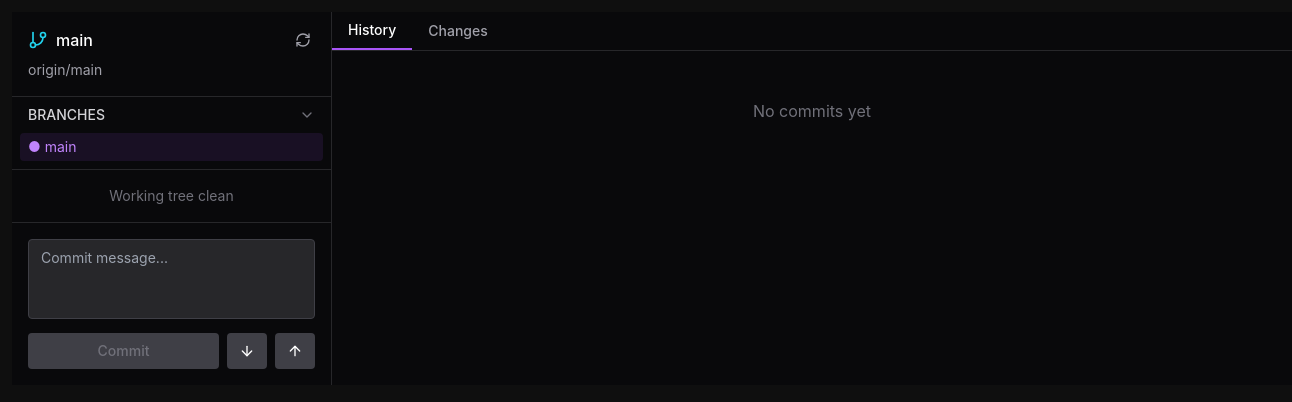
Scenario: GitPanel › Branch List › should toggle branch list visibility
The image size is (1292, 402).
Expected: the button "● main" is shown, [20,133,323,161]
Click the button "BRANCHES" at (66, 114), box [12,97,331,133]
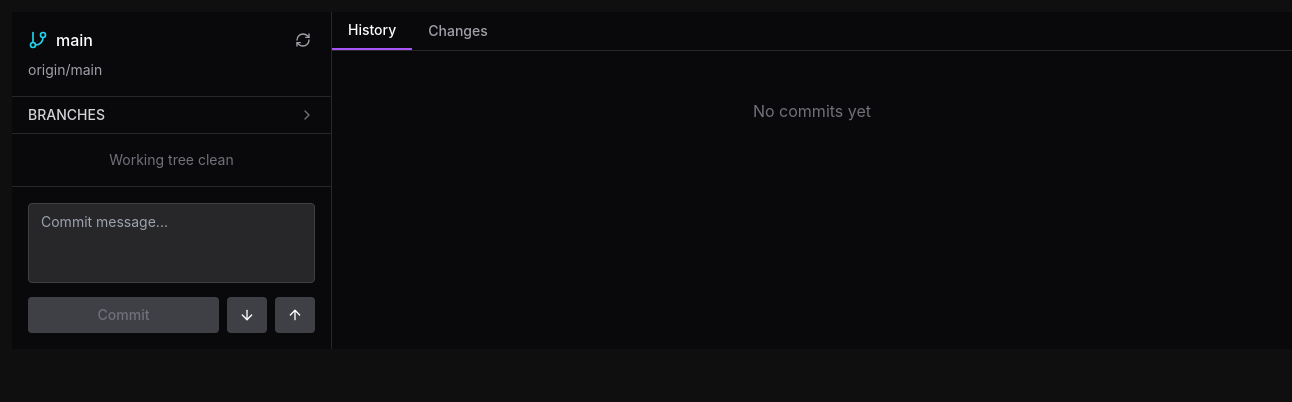
Expected: the button "● main" is gone
